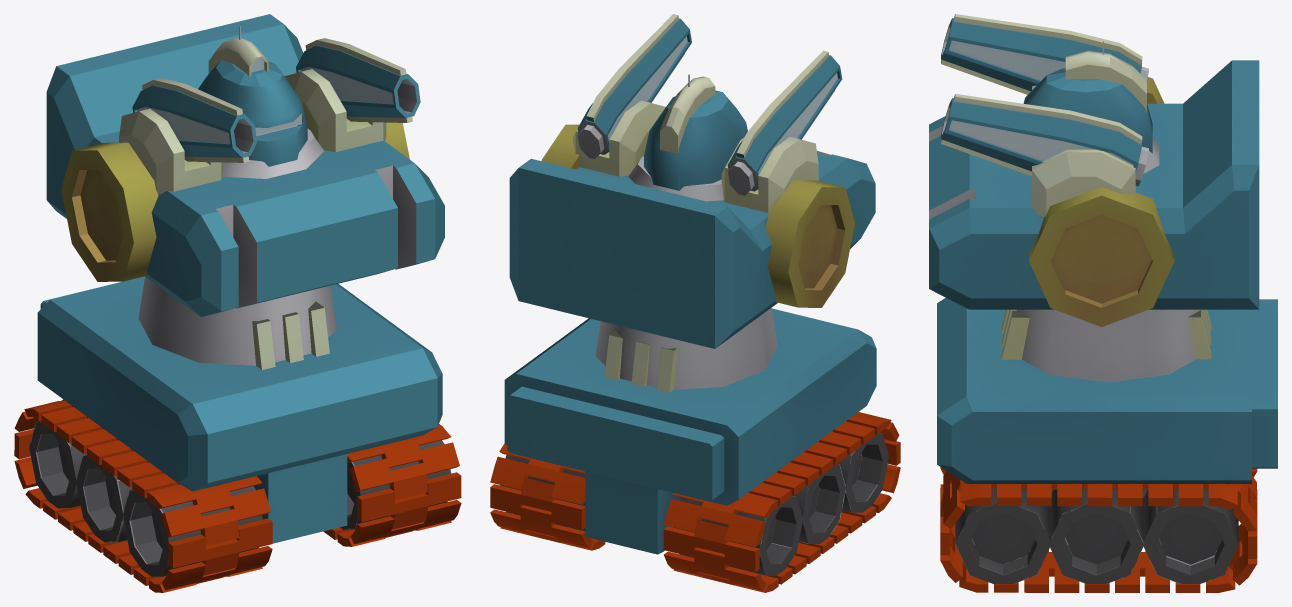
Rendered from player_idle10.obj.
3 views of the same model, side by side, from view 1: azimuth 30°, elevation 25°; view 2: azimuth 150°, elevation 25°; view 3: azimuth 270°, elevation 25° (orthographic). The views are drawn at different scales.
Visible parts, largest first — view 1: Object004, Box038, Object012, Object011, Box042; view 2: Object004, Box038, Object012, Object011, Box042; view 3: Object004, Object011, Object012, Box042.
Boxes of the visible parts, bbox=[...] form: Object004: bbox=[37, 14, 444, 543]; Box038: bbox=[14, 399, 272, 592]; Object012: bbox=[132, 38, 420, 162]; Object011: bbox=[29, 420, 451, 576]; Box042: bbox=[323, 424, 461, 546]; Object004: bbox=[504, 76, 876, 554]; Box038: bbox=[663, 412, 900, 592]; Object012: bbox=[577, 14, 842, 195]; Object011: bbox=[500, 432, 888, 575]; Box042: bbox=[490, 443, 605, 550]; Object004: bbox=[929, 51, 1277, 497]; Object011: bbox=[955, 487, 1238, 583]; Object012: bbox=[941, 14, 1148, 186]; Box042: bbox=[940, 471, 1257, 592].
Size of the model in its own units: 110 by 176 by 115.
Materials: 3 (1 with a texture image).
